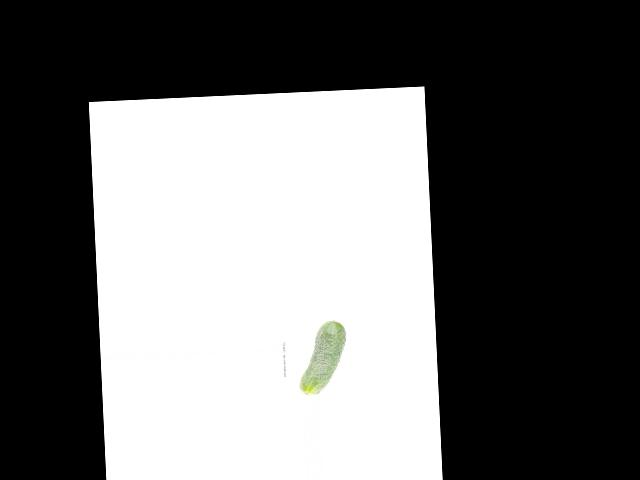cucumber: (296, 319, 348, 395)
